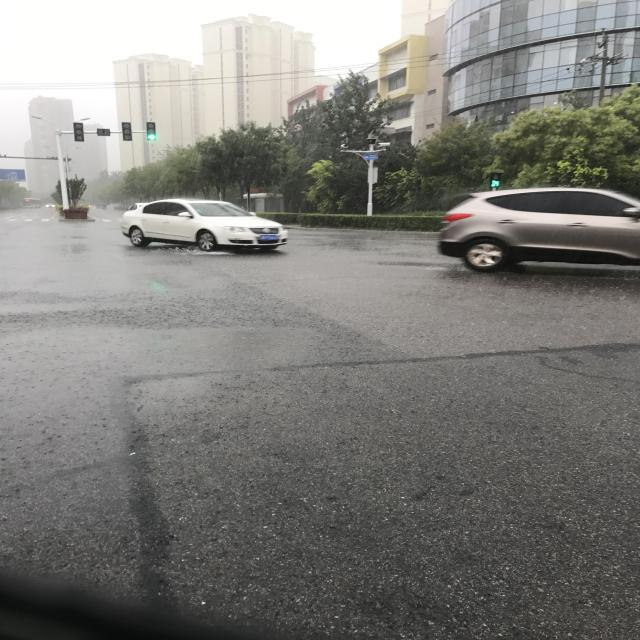car: (180, 0, 286, 212), (196, 346, 252, 523), (202, 584, 210, 596)
